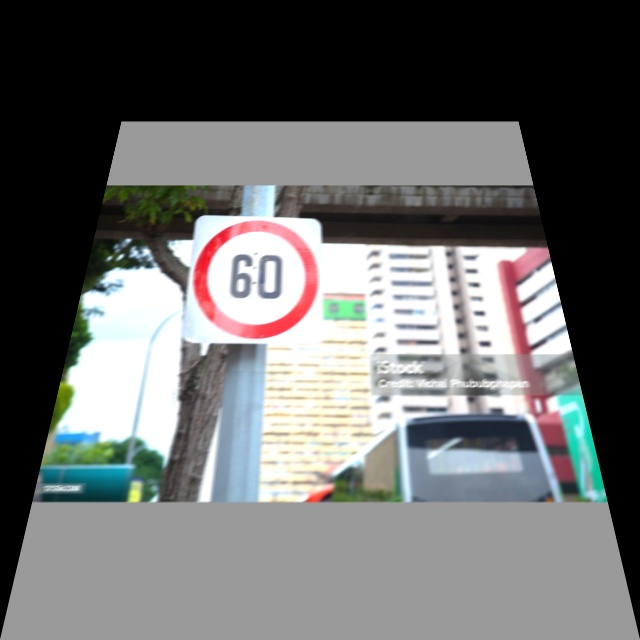Speed_Limit_60: (180, 217, 324, 345)
